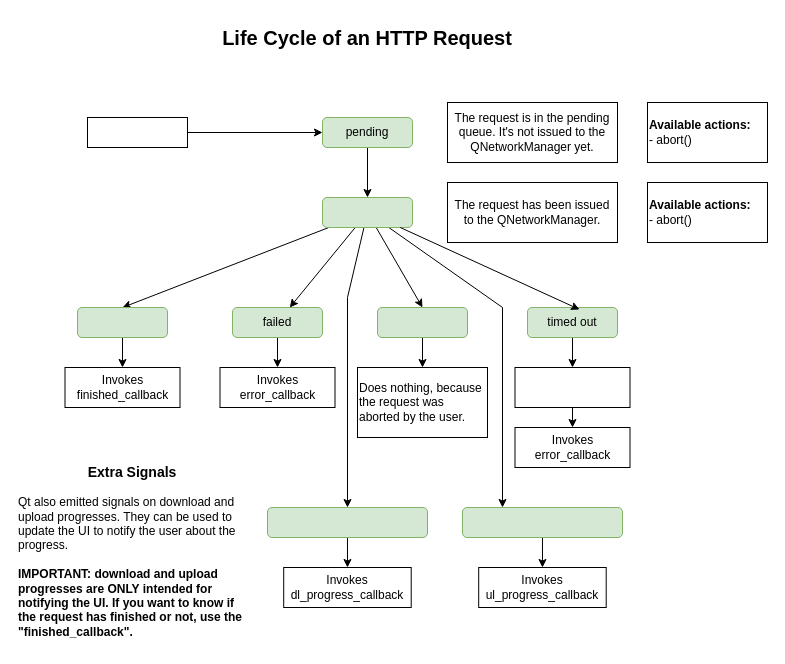
This 785x664 diagram has some shape labels left out. The shapes that lost their labels are listed below. From the top down, each one's centre as x and y in pixels, then its label:
point (137, 132): New request.
point (367, 212): running
point (122, 322): finished
point (422, 322): aborted
point (572, 387): Abort if possible.
point (347, 522): on_download_progress
point (542, 522): on_upload_progress
